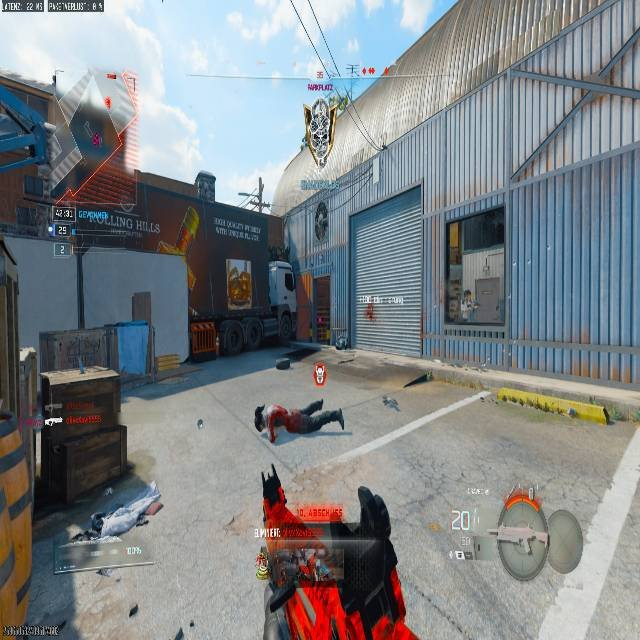player: (68, 498, 162, 545), (314, 201, 329, 239)
